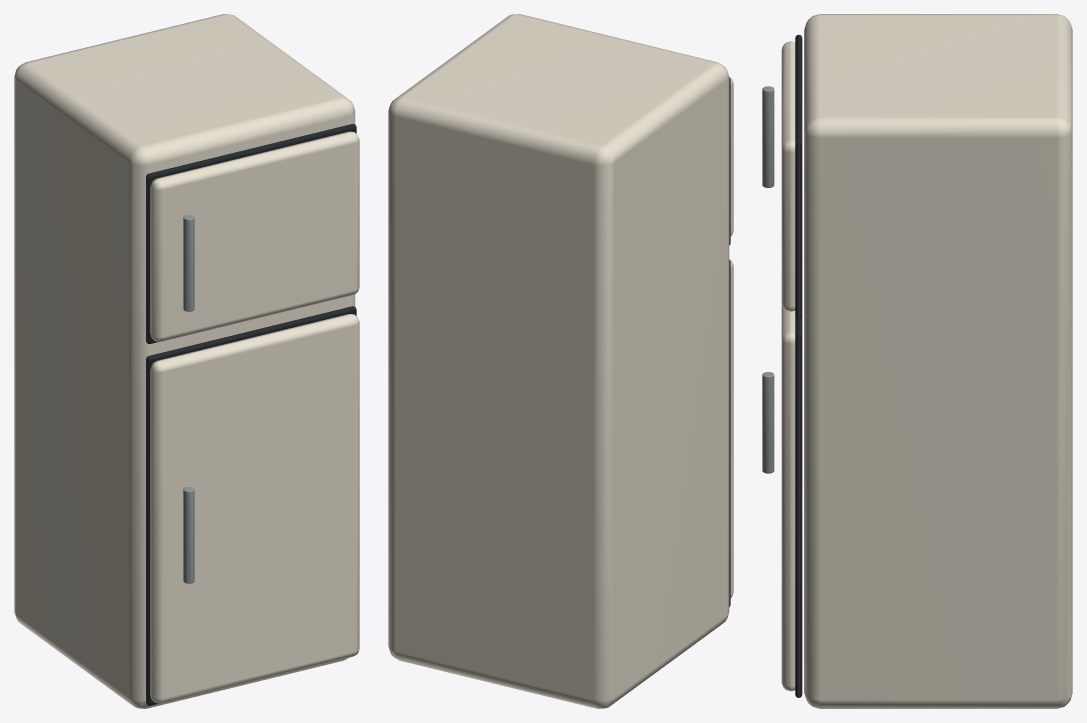
File: P_Fridge.fbx
3 views of the same model, side by side, from view 1: azimuth 30°, elevation 25°; view 2: azimuth 150°, elevation 25°; view 3: azimuth 270°, elevation 25° (orthographic). The views are drawn at different scales.
Visible parts, largest first — view 1: P_Fridge; view 2: P_Fridge; view 3: P_Fridge.
Boxes of the visible parts, <box> form: P_Fridge: <box>14,14,359,708</box>; P_Fridge: <box>388,14,733,708</box>; P_Fridge: <box>762,14,1072,708</box>.
Bounding box in the file's own units: 0.76 × 1.82 × 0.867.
